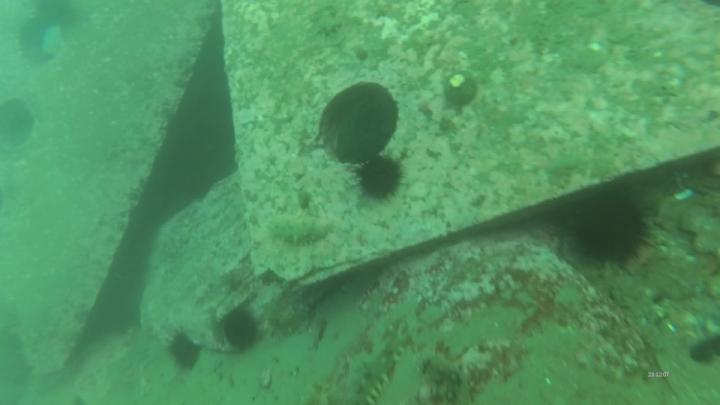echinus: (565, 182, 664, 277), (352, 149, 414, 205), (214, 300, 266, 357), (165, 324, 207, 375)
holothurian: (359, 328, 404, 405), (265, 209, 335, 242)
